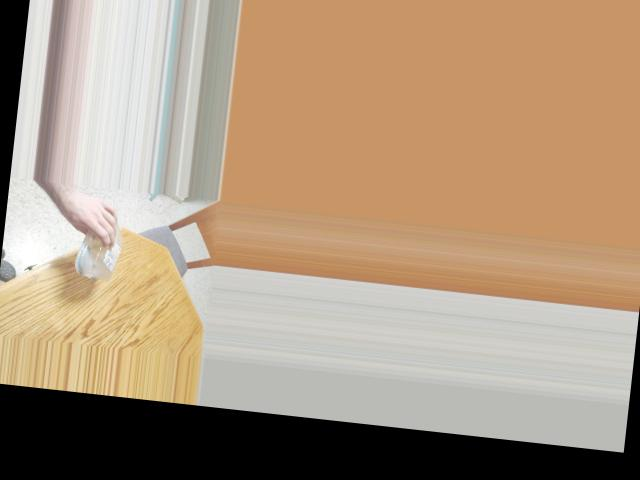cheese: (69, 201, 128, 269)
